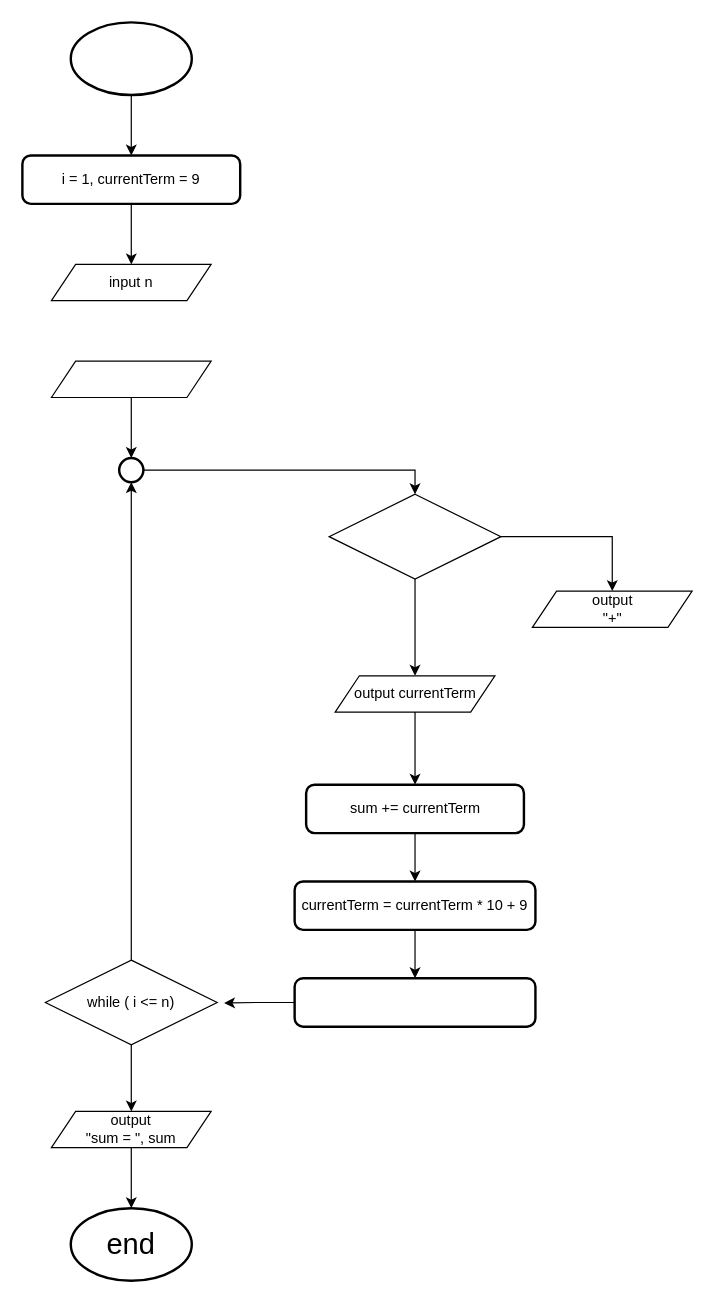
The diagram is 713 pixels wide and 1302 high, and some of its shapes have lost their labels. Here are the shapes that lost their labels. From the top down, the box of each, then its label:
(69, 21, 192, 96): start
(50, 360, 211, 397): output "series ="
(328, 493, 501, 579): if ( i > 1)
(293, 976, 536, 1027): i++
